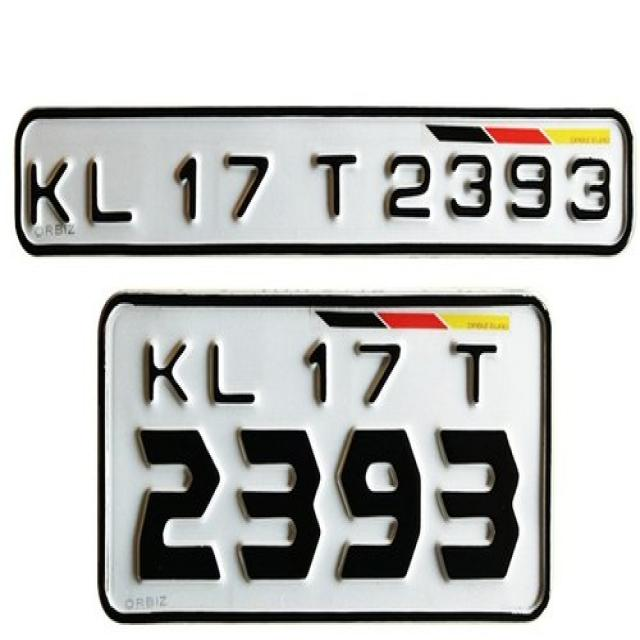plate: (95, 291, 553, 623), (17, 94, 635, 260)
